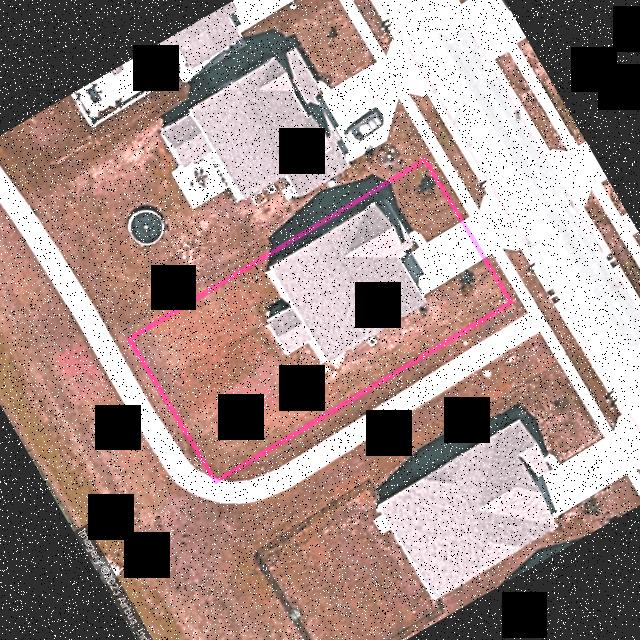Driveway: (413, 224, 481, 296)
Extra Driveway: (465, 194, 521, 257)
Extra Lawn: (442, 142, 487, 210), (427, 155, 468, 219), (504, 250, 542, 295), (487, 255, 518, 303)
Extra Sidewalk: (433, 151, 478, 217), (490, 249, 528, 300)
House: (264, 203, 424, 362)
Sidewalk: (379, 199, 421, 288), (408, 230, 426, 248)
